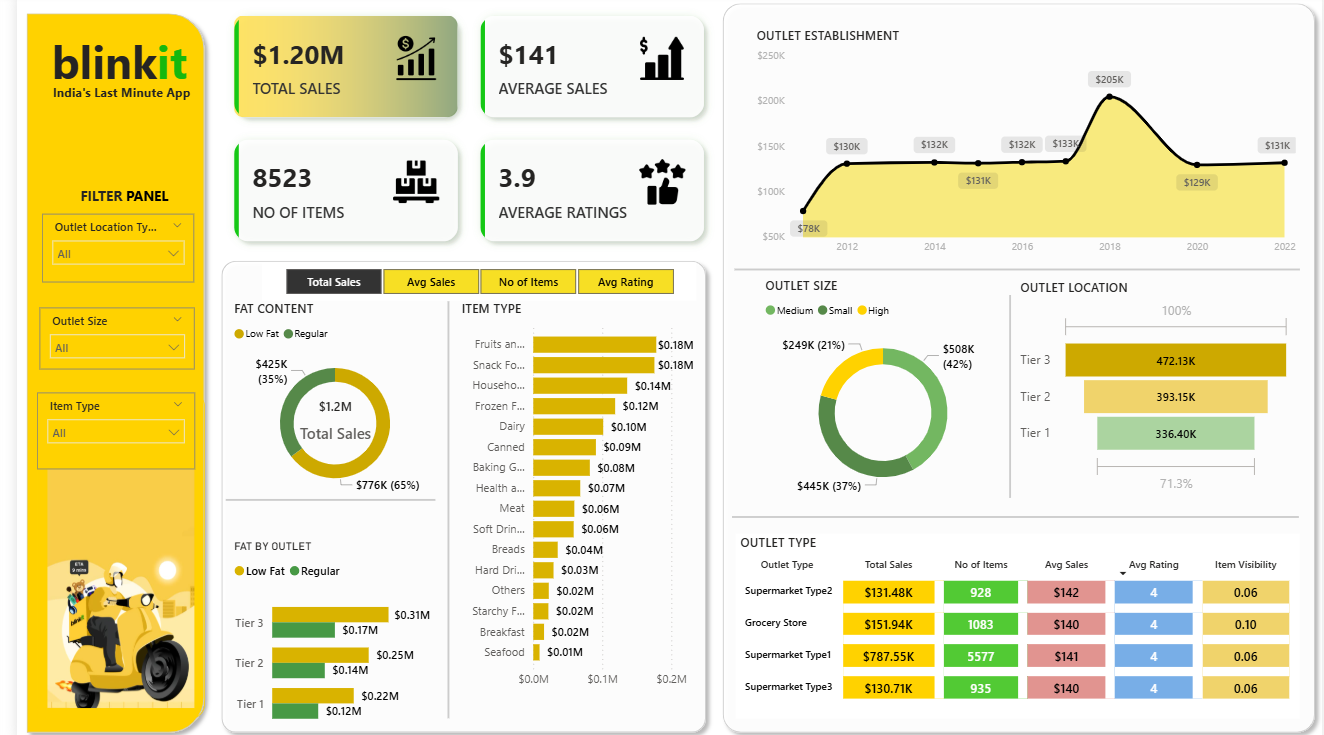

The page's visual inventory and layout, read from the dashboard file:
{"tool":"powerbi","page":{"name":"Page 1","canvas":[1400,800],"ordinal":0},"visuals":[{"type":"shape","box":[1.5,10.5,208.6,789.5],"z":0},{"type":"textbox","box":[32.2,33.5,159.5,83.1],"z":1000},{"type":"textbox","box":[33.5,89.8,159.5,55],"z":2000},{"type":"cardVisual","fields":{"Data":["BlinkIT Grocery Data.Total Sales","BlinkIT Grocery Data.Avg Sales","BlinkIT Grocery Data.No of Items","BlinkIT Grocery Data.Avg Rating"]},"box":[210.1,0,549.3,286.7],"z":3000},{"type":"shape","box":[210.1,276.2,537.3,523.8],"z":4000},{"type":"donutChart","title":"FAT CONTENT","fields":{"Y":["BlinkIT Grocery Data.Total Sales"],"Category":["BlinkIT Grocery Data.Item Fat Content"]},"box":[228.1,327.2,226.6,219.1],"z":5000},{"type":"slicer","fields":{"Values":["Metrics.Metrics"]},"box":[262.7,286.7,465.3,40.5],"z":6000},{"type":"card","fields":{"Values":["BlinkIT Grocery Data.Total Sales"]},"box":[292.7,426.2,99.1,57],"z":7000},{"type":"clusteredBarChart","title":"FAT BY OUTLET","fields":{"Y":["BlinkIT Grocery Data.Total Sales"],"Category":["BlinkIT Grocery Data.Outlet Location Type"],"Series":["BlinkIT Grocery Data.Item Fat Content"]},"box":[228.1,583.8,220.6,216.1],"z":8000},{"type":"shape","box":[454.8,328.7,16.5,447.3],"z":9000},{"type":"shape","box":[223.6,535.8,225.1,10.5],"z":10000},{"type":"barChart","title":"ITEM TYPE","fields":{"Y":["BlinkIT Grocery Data.Total Sales"],"Category":["BlinkIT Grocery Data.Item Type"]},"box":[471.3,327.2,276.2,424.7],"z":11000},{"type":"shape","box":[747.4,0,652.9,800],"z":12000},{"type":"lineChart","title":"OUTLET ESTABLISHMENT","fields":{"Y":["BlinkIT Grocery Data.Total Sales"],"Category":["BlinkIT Grocery Data.Outlet Establishment Year"]},"box":[788,33,588.3,253.6],"z":13000},{"type":"shape","box":[769.9,286.7,606.3,15],"z":14000},{"type":"donutChart","title":"OUTLET SIZE","fields":{"Y":["BlinkIT Grocery Data.Total Sales"],"Category":["BlinkIT Grocery Data.Outlet Size"]},"box":[797,301.7,262.7,247.6],"z":15000},{"type":"shape","box":[1059.6,321.2,12,217.6],"z":16000},{"type":"image","box":[21,426.2,180.1,349.7],"z":17000},{"type":"funnel","title":"OUTLET LOCATION","fields":{"Y":["Sum(BlinkIT Grocery Data.Sales)"],"Category":["BlinkIT Grocery Data.Outlet Location Type"]},"box":[1071.6,304.7,300.2,235.6],"z":18000},{"type":"shape","box":[766.9,552.3,607.8,15],"z":19000},{"type":"pivotTable","title":"OUTLET TYPE","fields":{"Rows":["BlinkIT Grocery Data.Outlet Type"],"Values":["BlinkIT Grocery Data.Total Sales","BlinkIT Grocery Data.No of Items","BlinkIT Grocery Data.Avg Sales","BlinkIT Grocery Data.Avg Rating","Avg(BlinkIT Grocery Data.Item Visibility)"]},"box":[771.4,577.8,604.8,198.1],"z":20000},{"type":"slicer","fields":{"Values":["BlinkIT Grocery Data.Outlet Location Type"]},"box":[27,234.1,163.6,73.5],"z":21000},{"type":"slicer","fields":{"Values":["BlinkIT Grocery Data.Outlet Size"]},"box":[24,334.7,166.6,66],"z":22000},{"type":"slicer","fields":{"Values":["BlinkIT Grocery Data.Item Type"]},"box":[21,426.2,169.6,82.5],"z":23000},{"type":"textbox","box":[63,199.6,108.1,34.5],"z":24000}]}

Visuals, with their boxes in screenshot pixels (x1, y1, x2, y2), scaled from the page's 1400x800 canvas onto the 1324x735 screenshot:
shape: bbox=[1, 10, 199, 734]
textbox: bbox=[30, 31, 181, 107]
textbox: bbox=[32, 83, 183, 133]
cardVisual - BlinkIT Grocery Data.Total Sales x BlinkIT Grocery Data.Avg Sales: bbox=[199, 0, 718, 263]
shape: bbox=[199, 254, 707, 734]
"FAT CONTENT" donutChart: bbox=[216, 301, 430, 502]
slicer - Metrics.Metrics: bbox=[248, 263, 688, 301]
card - BlinkIT Grocery Data.Total Sales: bbox=[277, 392, 371, 444]
"FAT BY OUTLET" clusteredBarChart: bbox=[216, 536, 424, 734]
shape: bbox=[430, 302, 446, 713]
shape: bbox=[211, 492, 424, 502]
"ITEM TYPE" barChart: bbox=[446, 301, 707, 691]
shape: bbox=[707, 0, 1323, 734]
"OUTLET ESTABLISHMENT" lineChart: bbox=[745, 30, 1302, 263]
shape: bbox=[728, 263, 1301, 277]
"OUTLET SIZE" donutChart: bbox=[754, 277, 1002, 505]
shape: bbox=[1002, 295, 1013, 495]
image: bbox=[20, 392, 190, 713]
"OUTLET LOCATION" funnel: bbox=[1013, 280, 1297, 496]
shape: bbox=[725, 507, 1300, 521]
"OUTLET TYPE" pivotTable: bbox=[730, 531, 1301, 713]
slicer - BlinkIT Grocery Data.Outlet Location Type: bbox=[26, 215, 180, 283]
slicer - BlinkIT Grocery Data.Outlet Size: bbox=[23, 308, 180, 368]
slicer - BlinkIT Grocery Data.Item Type: bbox=[20, 392, 180, 467]
textbox: bbox=[60, 183, 162, 215]
